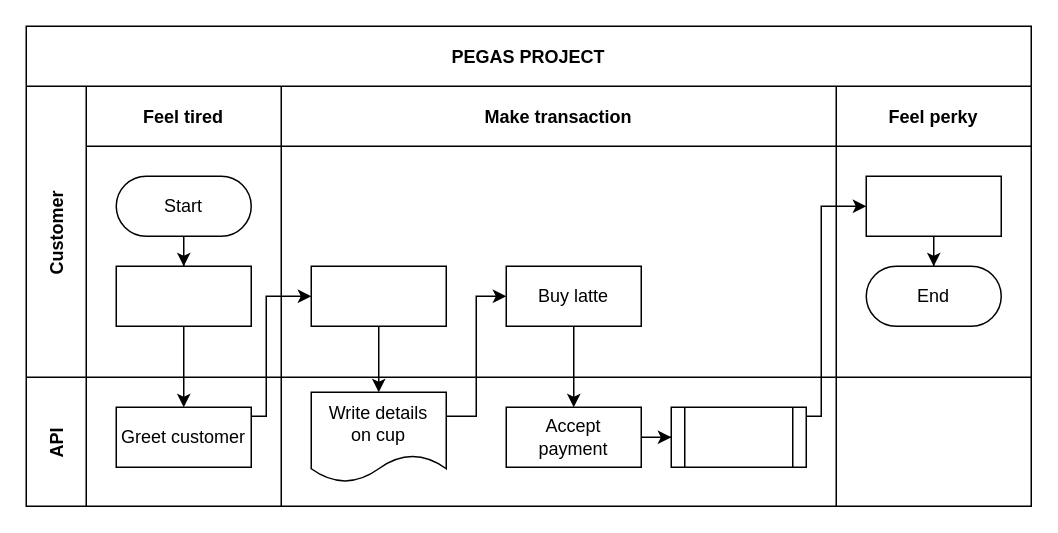
This 1058x533 diagram has some shape labels left out. The shapes that lost their labels are listed below. From the top down, each one's centre as x and y in pixels, then its label:
At [933,205]: "Drink latte".
At [183,295]: "Find barista".
At [378,295]: "Request latte".
At [738,436]: "Make latte".
